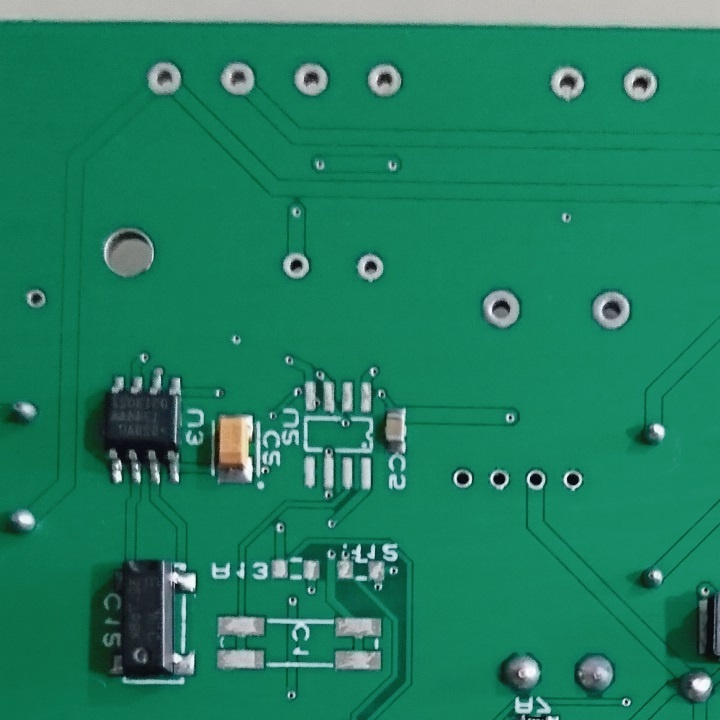F: (587, 286, 633, 333), (479, 283, 524, 330), (620, 63, 664, 105), (546, 63, 589, 105), (144, 58, 186, 100), (216, 59, 259, 100), (362, 58, 404, 99), (291, 58, 330, 98), (353, 248, 389, 286), (280, 248, 314, 282), (485, 466, 512, 492), (523, 465, 547, 492), (450, 465, 473, 492), (24, 287, 51, 310), (561, 467, 584, 492)
